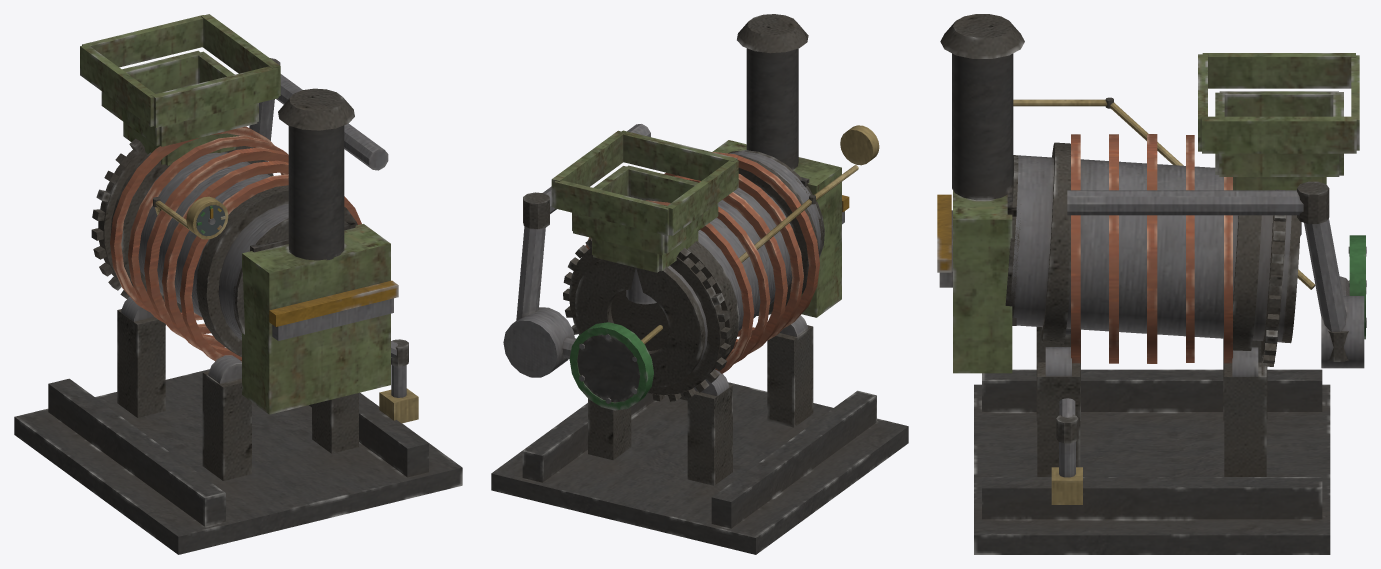
The model's file is feSteamDryer_HD.fbx.
3 views of the same model, side by side, from view 1: azimuth 30°, elevation 25°; view 2: azimuth 150°, elevation 25°; view 3: azimuth 270°, elevation 25° (orthographic). The views are drawn at different scales.
Parts seen in each view (by area): view 1: feSteamDryer_Base, FeWorkSpin_x0.4_Drum; view 2: feSteamDryer_Base, FeWorkSpin_x0.4_Drum; view 3: feSteamDryer_Base, FeWorkSpin_x0.4_Drum.
Part boxes in pixels (x1,y1,x2,y2): feSteamDryer_Base: [14, 14, 462, 554]; FeWorkSpin_x0.4_Drum: [91, 135, 357, 356]; feSteamDryer_Base: [491, 14, 908, 554]; FeWorkSpin_x0.4_Drum: [563, 150, 824, 401]; feSteamDryer_Base: [937, 14, 1366, 554]; FeWorkSpin_x0.4_Drum: [1005, 142, 1300, 366].
Bounding box in the file's own units: 0.8412 × 1.18 × 1.01.
1 material, 1 textured.
